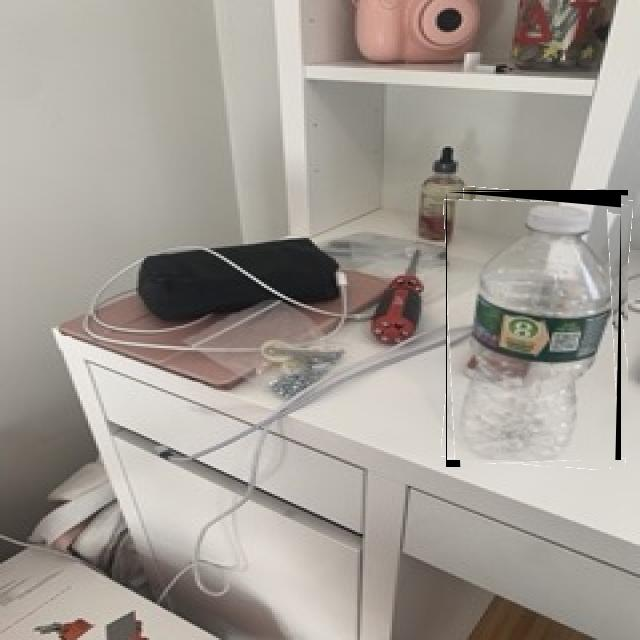water_bottle: (446, 190, 628, 467), (447, 192, 621, 460)
